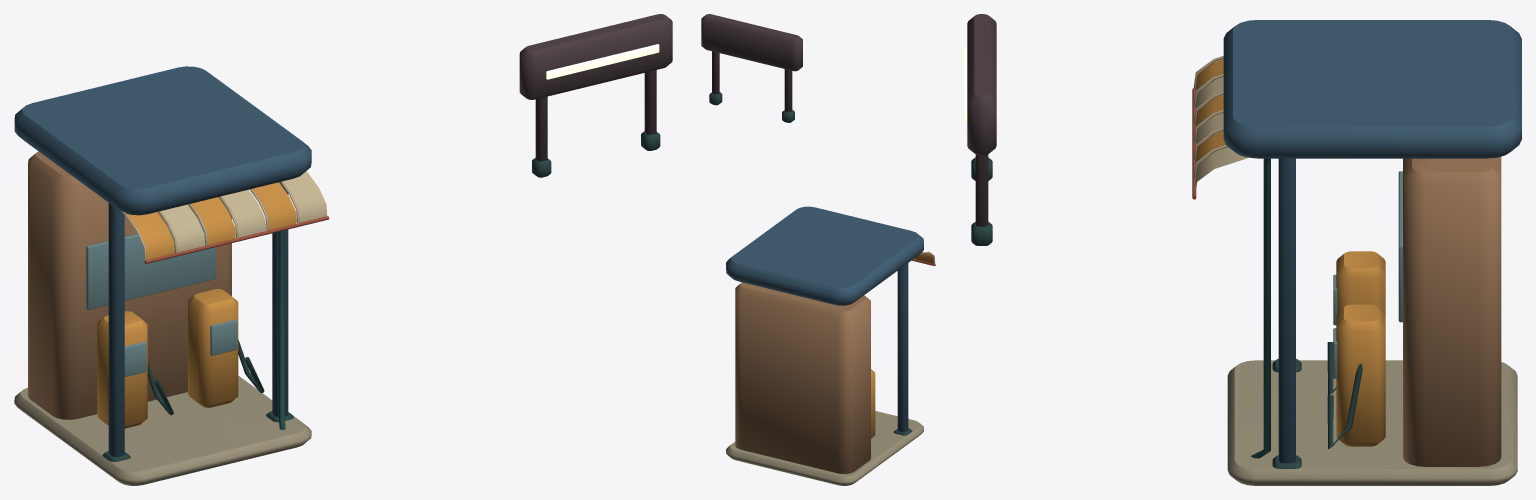
The model's file is alpine_fuel_4.glb.
The picture shows the model from 3 angles, left to right: view 1: azimuth 30°, elevation 25°; view 2: azimuth 150°, elevation 25°; view 3: azimuth 270°, elevation 25°; orthographic projection. The views are drawn at different scales.
Visible parts, largest first — view 1: Fuel4; view 2: Fuel4; view 3: Fuel4.
Boxes of the visible parts, x1=… form: Fuel4: x1=14, y1=14, x2=672, y2=485; Fuel4: x1=701, y1=14, x2=935, y2=485; Fuel4: x1=964, y1=14, x2=1521, y2=485.
Size of the model in its own units: 5.28 by 5.06 by 4.77.
